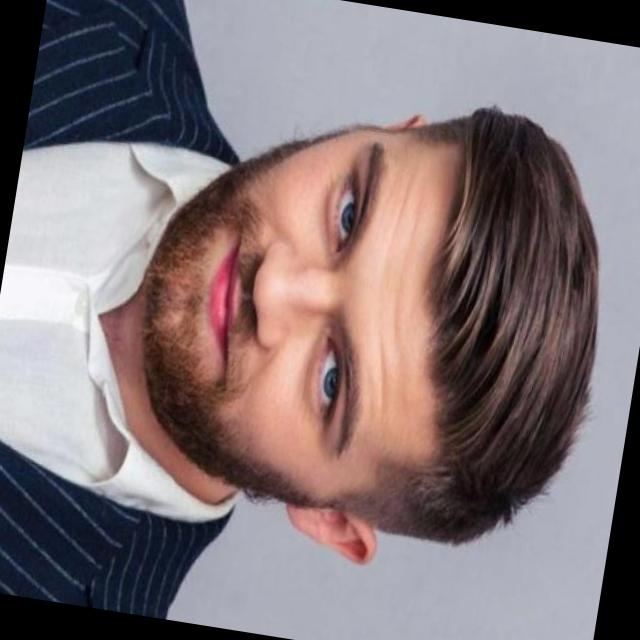bareface: (142, 78, 628, 582)
